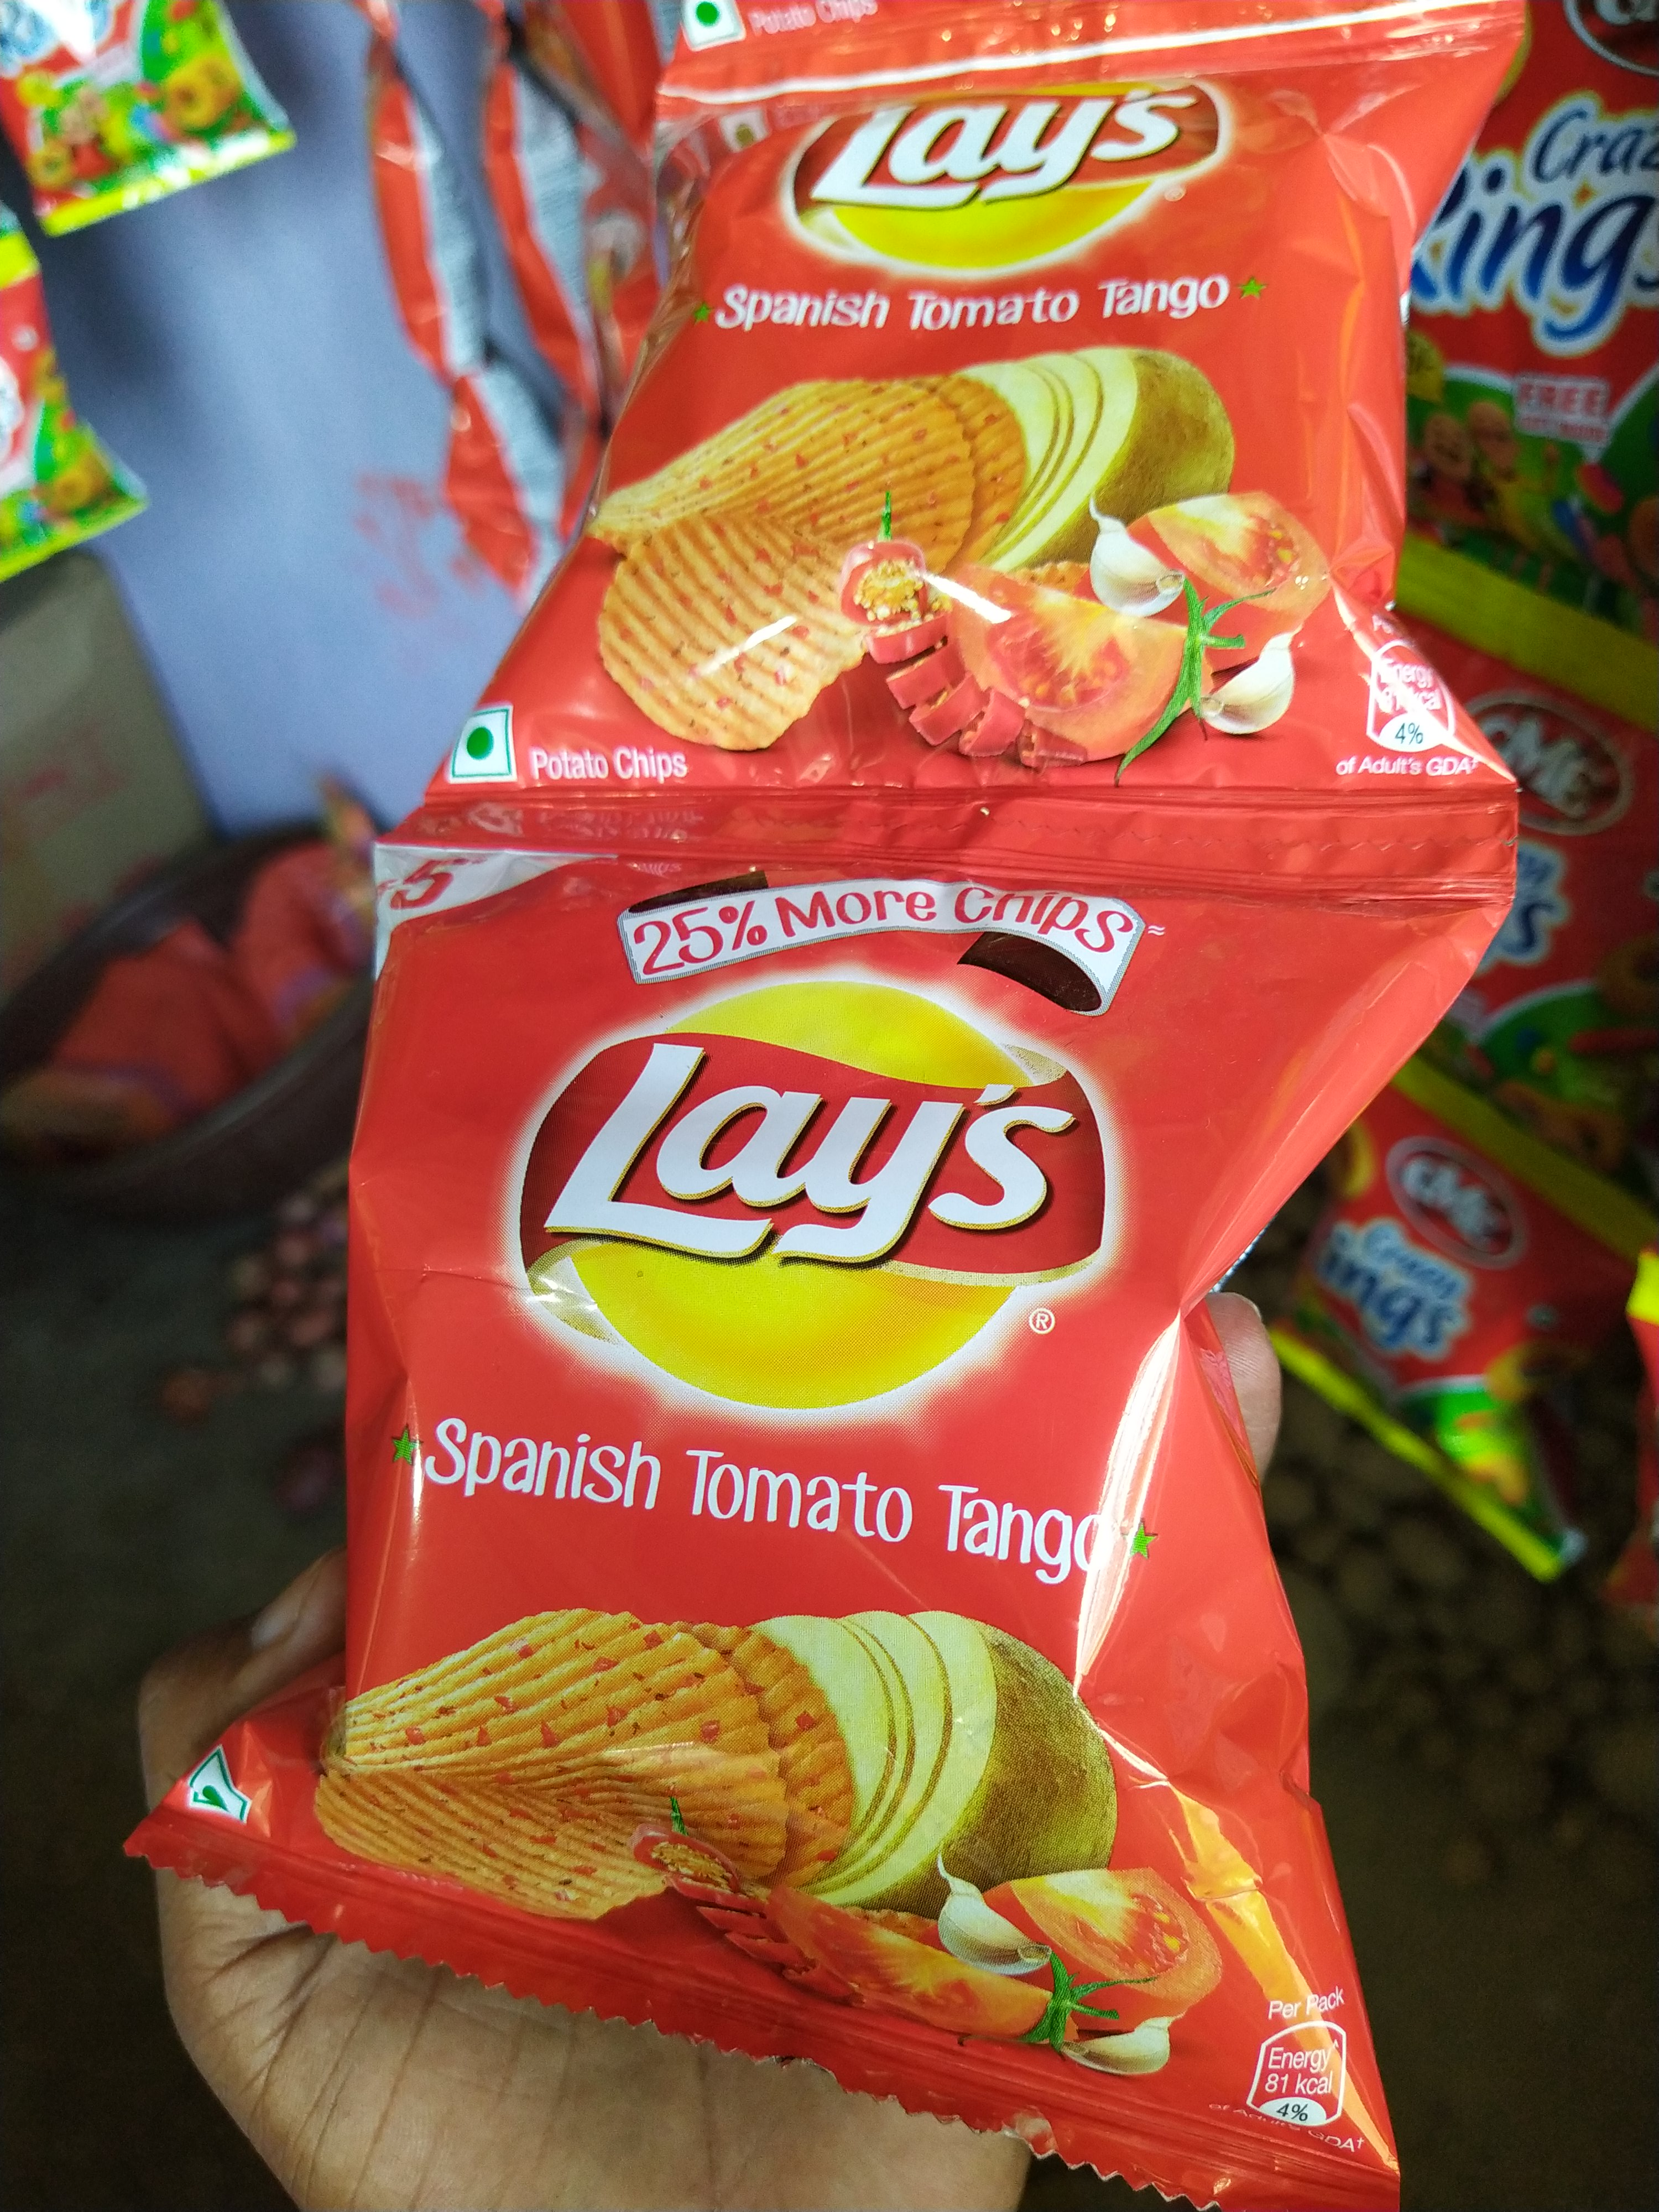food: (117, 139, 1528, 2209), (1243, 0, 1659, 1590), (1216, 1223, 1657, 1975), (0, 0, 296, 585), (145, 1144, 357, 1527)
